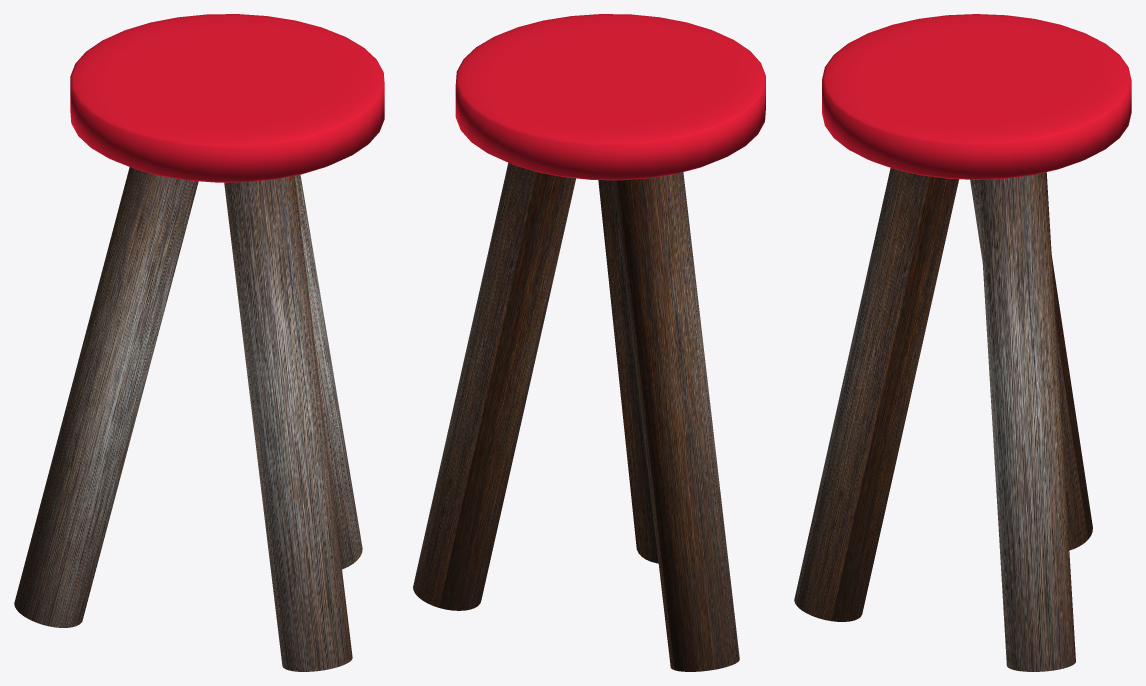
The model's file is Stool.fbx.
3 renders of one model, left to right at view 1: azimuth 30°, elevation 25°; view 2: azimuth 150°, elevation 25°; view 3: azimuth 270°, elevation 25°, orthographic.
Parts seen in each view (by area): view 1: Cylinder.003, Cylinder.002, Cylinder, Cylinder.001; view 2: Cylinder.003, Cylinder, Cylinder.001, Cylinder.002; view 3: Cylinder.003, Cylinder.001, Cylinder.002, Cylinder.
Boxes of the visible parts, x1,y1,x2,y2 form: Cylinder.003: [70, 14, 384, 182]; Cylinder.002: [224, 176, 352, 671]; Cylinder: [14, 167, 198, 627]; Cylinder.001: [294, 174, 362, 569]; Cylinder.003: [455, 14, 765, 180]; Cylinder: [614, 172, 739, 671]; Cylinder.001: [413, 163, 575, 610]; Cylinder.002: [598, 180, 658, 563]; Cylinder.003: [822, 14, 1131, 179]; Cylinder.001: [977, 172, 1075, 671]; Cylinder.002: [794, 168, 958, 621]; Cylinder: [970, 179, 1092, 550].
Bounding box in the file's own units: 0.3013 × 0.4709 × 0.2711.
Materials: 2 (1 with a texture image).
